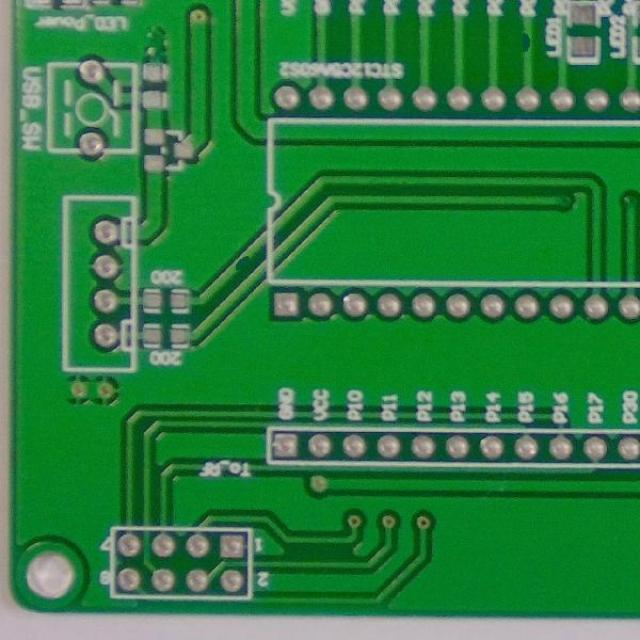MouseBite: (230, 250, 254, 276), (520, 26, 536, 58)
